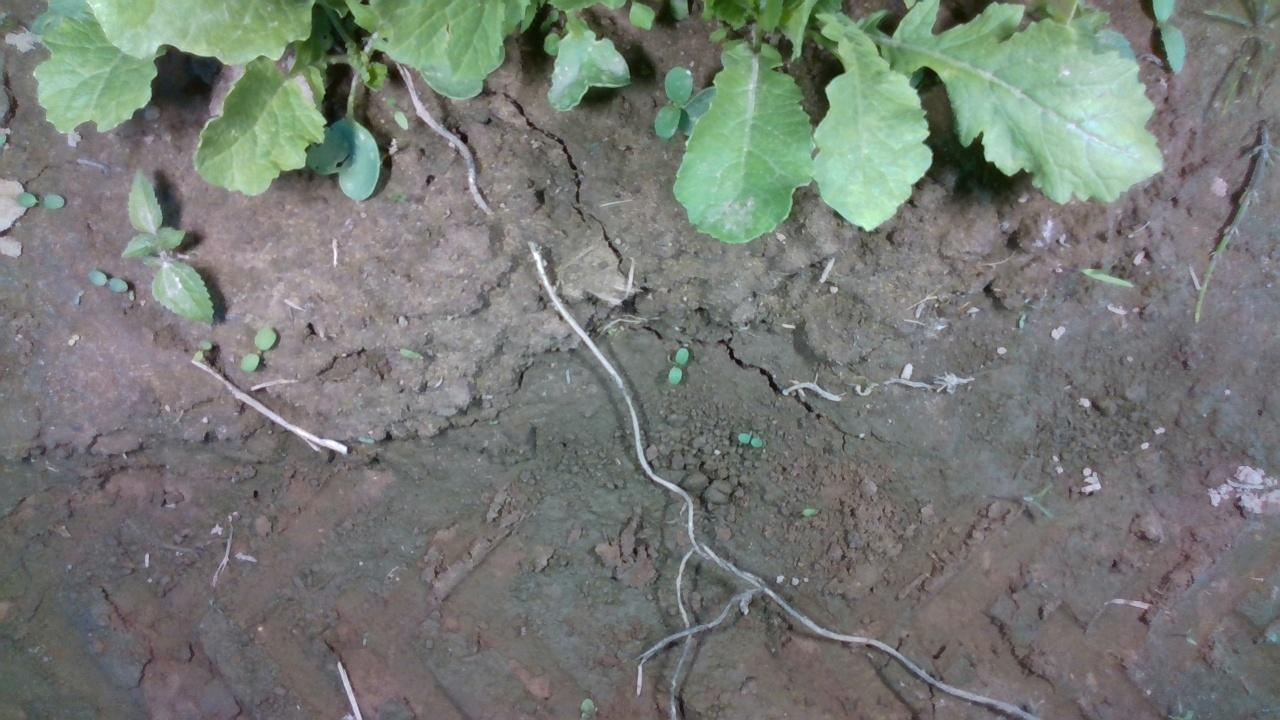weed: (11, 189, 66, 210), (665, 345, 690, 386), (71, 285, 83, 307)
